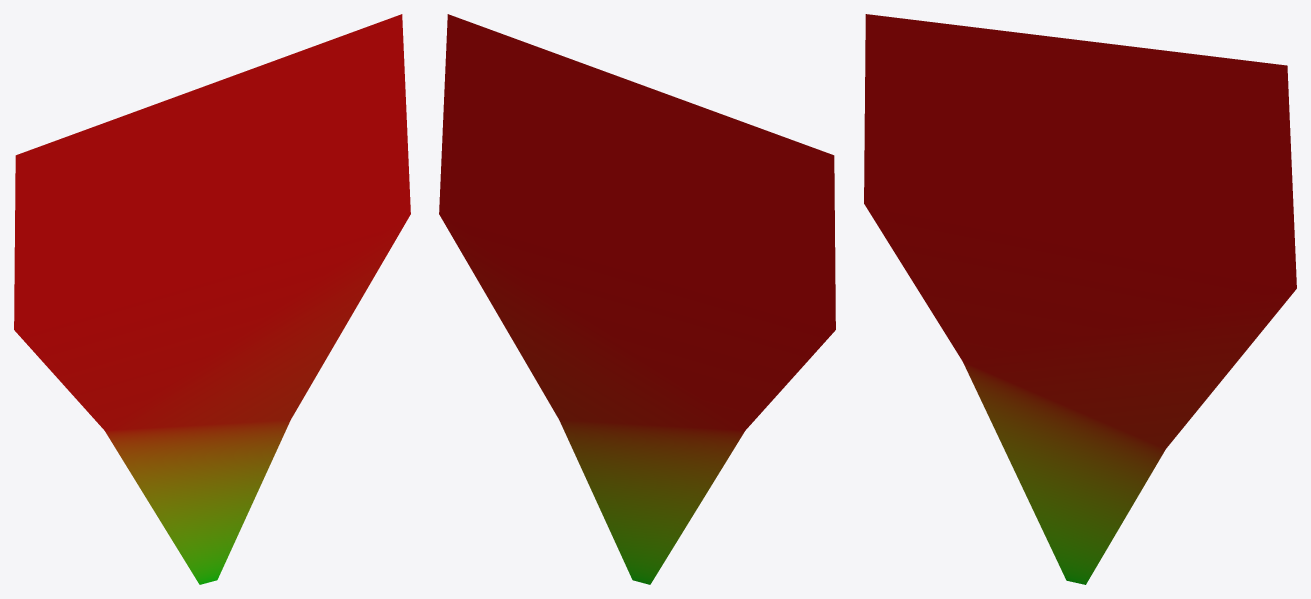
The model's file is Chamomile_LOD4_Var1.fbx.
3 views of the same model, side by side, from view 1: azimuth 30°, elevation 25°; view 2: azimuth 150°, elevation 25°; view 3: azimuth 330°, elevation 25° (orthographic). The views are drawn at different scales.
Visible parts, largest first — view 1: _mmdn_Var1_LOD4; view 2: _mmdn_Var1_LOD4; view 3: _mmdn_Var1_LOD4.
Part boxes in pixels (bbox=[...]): _mmdn_Var1_LOD4: bbox=[14, 14, 410, 584]; _mmdn_Var1_LOD4: bbox=[439, 14, 835, 584]; _mmdn_Var1_LOD4: bbox=[864, 14, 1296, 584].
Bounding box in the file's own units: 49.35 × 61.98 × 7.39e-06.
